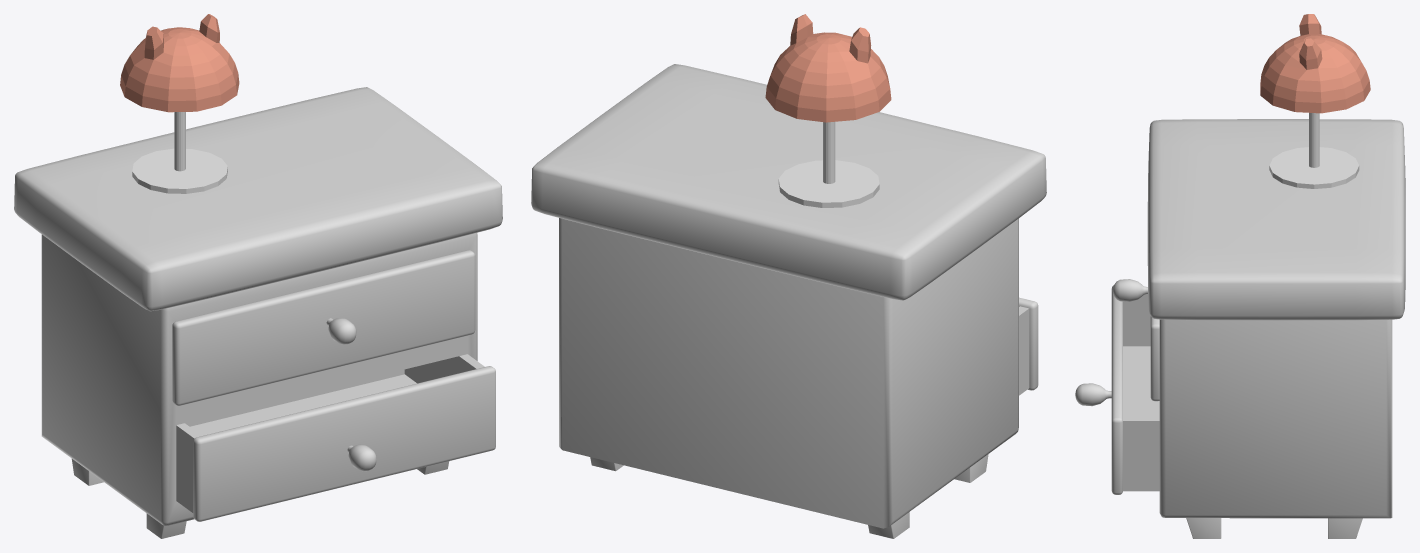
File: komodin.fbx
3 views of the same model, side by side, from view 1: azimuth 30°, elevation 25°; view 2: azimuth 150°, elevation 25°; view 3: azimuth 270°, elevation 25° (orthographic). The views are drawn at different scales.
Parts seen in each view (by area): view 1: Cube.012, Sphere, Cylinder.006; view 2: Cube.012, Sphere, Cylinder.006; view 3: Cube.012, Sphere, Cylinder.006.
Part boxes in pixels (x1=…): Cube.012: x1=14, y1=87, x2=502, y2=538; Sphere: x1=120, y1=14, x2=239, y2=112; Cylinder.006: x1=132, y1=112, x2=227, y2=193; Cube.012: x1=531, y1=64, x2=1046, y2=538; Sphere: x1=765, y1=14, x2=891, y2=122; Cylinder.006: x1=778, y1=122, x2=879, y2=207; Cube.012: x1=1075, y1=119, x2=1405, y2=538; Sphere: x1=1260, y1=14, x2=1370, y2=113; Cylinder.006: x1=1269, y1=113, x2=1359, y2=188.
Size of the model in its own units: 134 by 161 by 114.
